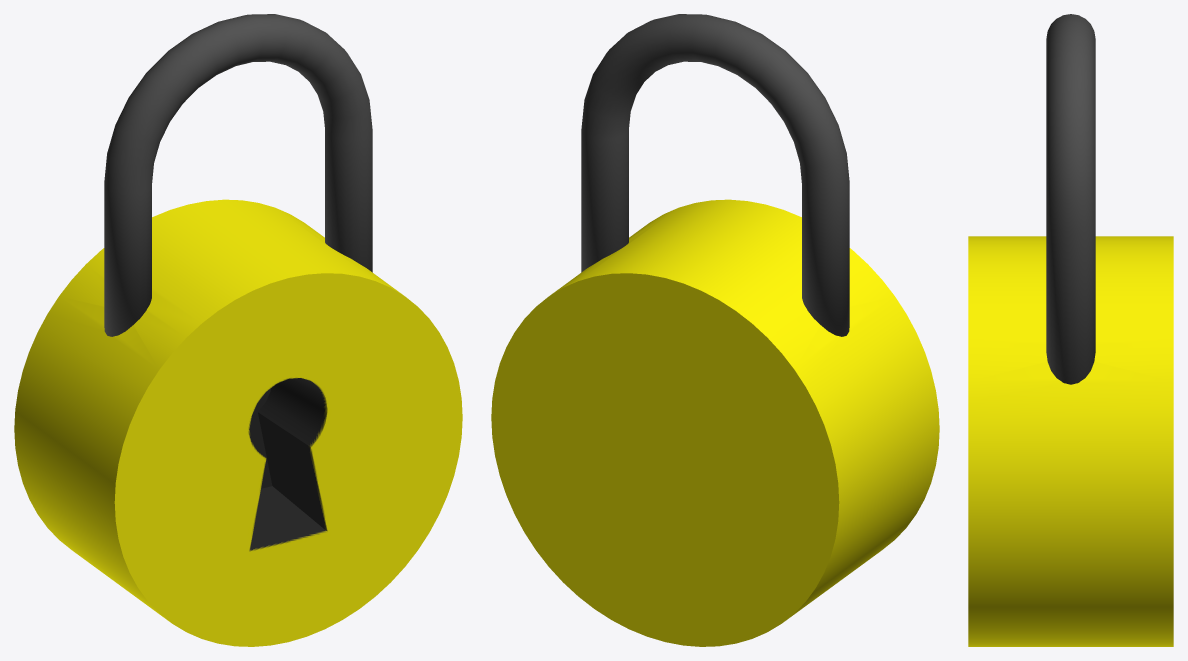
Rendered from Padlocky.fbx.
3 renders of one model, left to right at view 1: azimuth 30°, elevation 25°; view 2: azimuth 150°, elevation 25°; view 3: azimuth 270°, elevation 25°, orthographic. The views are drawn at different scales.
Visible parts, largest first — view 1: Body, Handle; view 2: Body, Handle; view 3: Body, Handle.
Boxes of the visible parts, x1,y1,x2,y2 form: Body: (14, 199, 462, 646); Handle: (104, 14, 372, 336); Body: (491, 199, 939, 646); Handle: (581, 14, 849, 336); Body: (968, 236, 1173, 646); Handle: (1046, 14, 1095, 384).
Size of the model in its own units: 4 by 6.44 by 2.
Materials: 1 (1 with a texture image).
